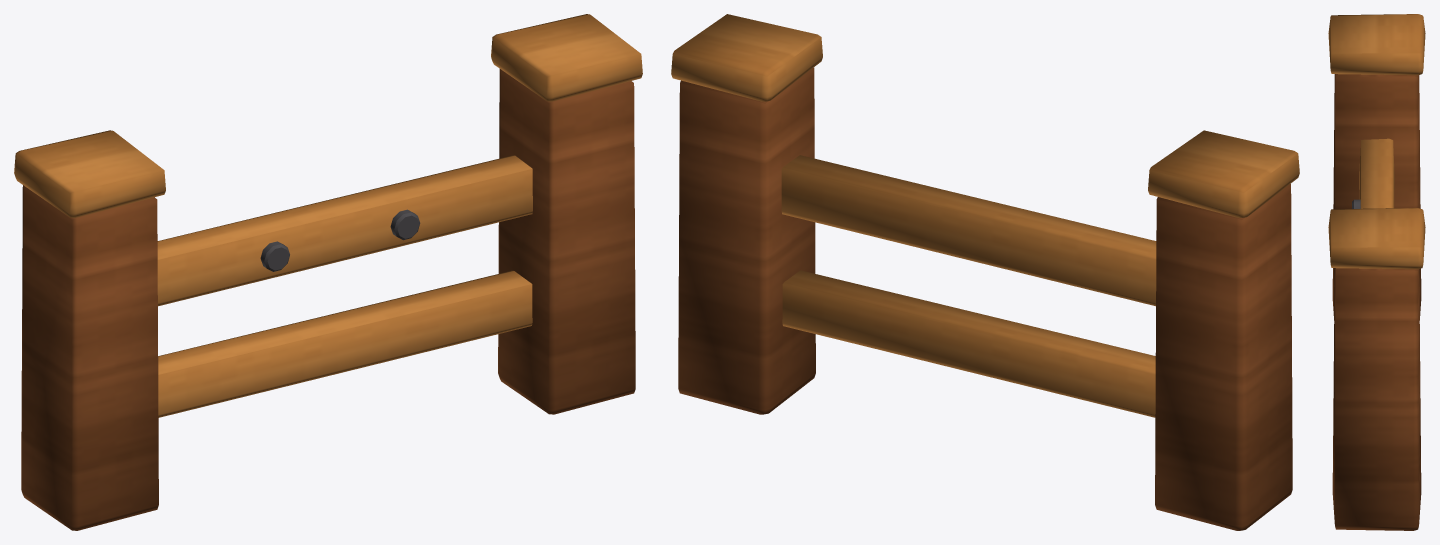
The model's file is 26_fence_short.glb.
3 views of the same model, side by side, from view 1: azimuth 30°, elevation 25°; view 2: azimuth 150°, elevation 25°; view 3: azimuth 270°, elevation 25° (orthographic). The views are drawn at different scales.
Parts seen in each view (by area): view 1: Post_0, Post_1, RailUpper_0, RailLower_0, PostCap_1, PostCap_0; view 2: Post_0, Post_1, RailUpper_0, RailLower_0, PostCap_0, PostCap_1; view 3: Post_1, Post_0, PostCap_1, PostCap_0, RailUpper_0.
Part boxes in pixels (<box>): Post_0: <box>21,185,158,530</box>; Post_1: <box>498,69,635,414</box>; RailUpper_0: <box>157,155,532,306</box>; RailLower_0: <box>158,270,532,417</box>; PostCap_1: <box>491,14,642,101</box>; PostCap_0: <box>14,130,165,217</box>; Post_0: <box>1155,184,1292,530</box>; Post_1: <box>678,67,815,414</box>; RailUpper_0: <box>781,155,1156,306</box>; RailLower_0: <box>782,270,1155,417</box>; PostCap_0: <box>1148,130,1299,217</box>; PostCap_1: <box>671,14,822,101</box>; Post_1: <box>1332,268,1421,530</box>; Post_0: <box>1332,74,1421,320</box>; PostCap_1: <box>1328,208,1425,269</box>; PostCap_0: <box>1328,14,1425,75</box>; RailUpper_0: <box>1359,138,1394,208</box>.
Bounding box in the file's own units: 1.07 × 0.6125 × 0.186.
Materials: 3 (2 with a texture image).
